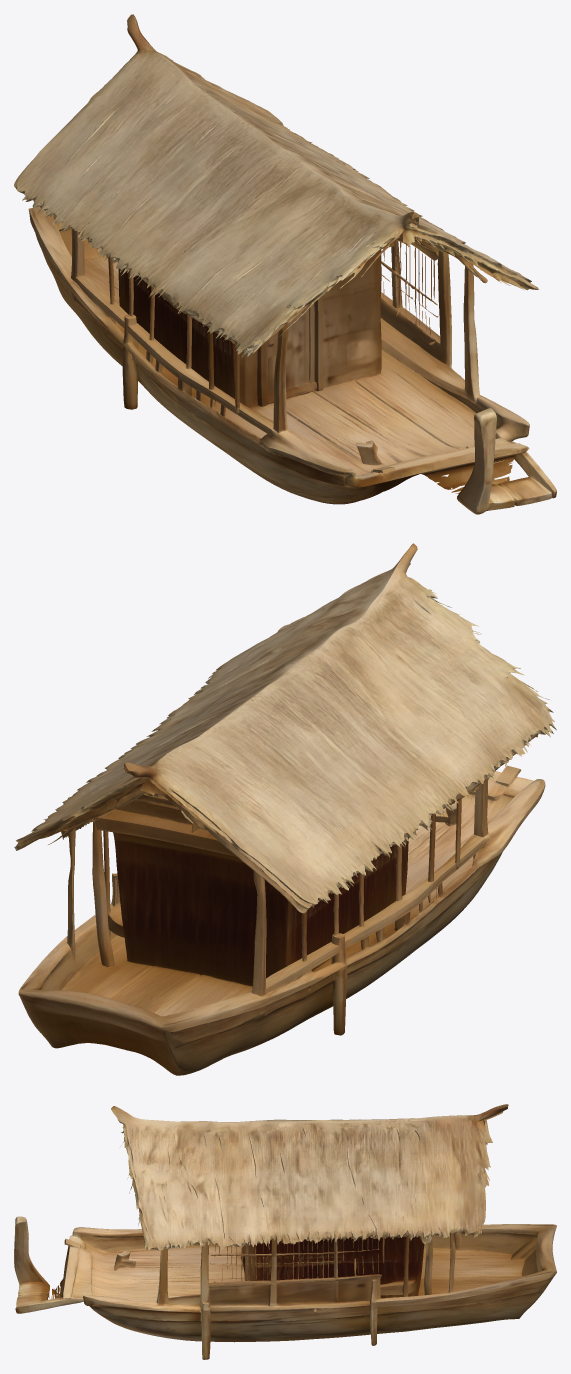
File: ben-vac.glb
The picture shows the model from 3 angles, top to bottom: view 1: azimuth 30°, elevation 25°; view 2: azimuth 150°, elevation 25°; view 3: azimuth 270°, elevation 25°; orthographic projection. The views are drawn at different scales.
Visible parts, largest first — view 1: model; view 2: model; view 3: model.
Part boxes in pixels (box(x1,y1,x2,y2)): model: box(14, 14, 556, 514); model: box(14, 543, 556, 1075); model: box(14, 1104, 556, 1359).
Bounding box in the file's own units: 3.78 × 3.56 × 8.
1 material, 1 textured.
